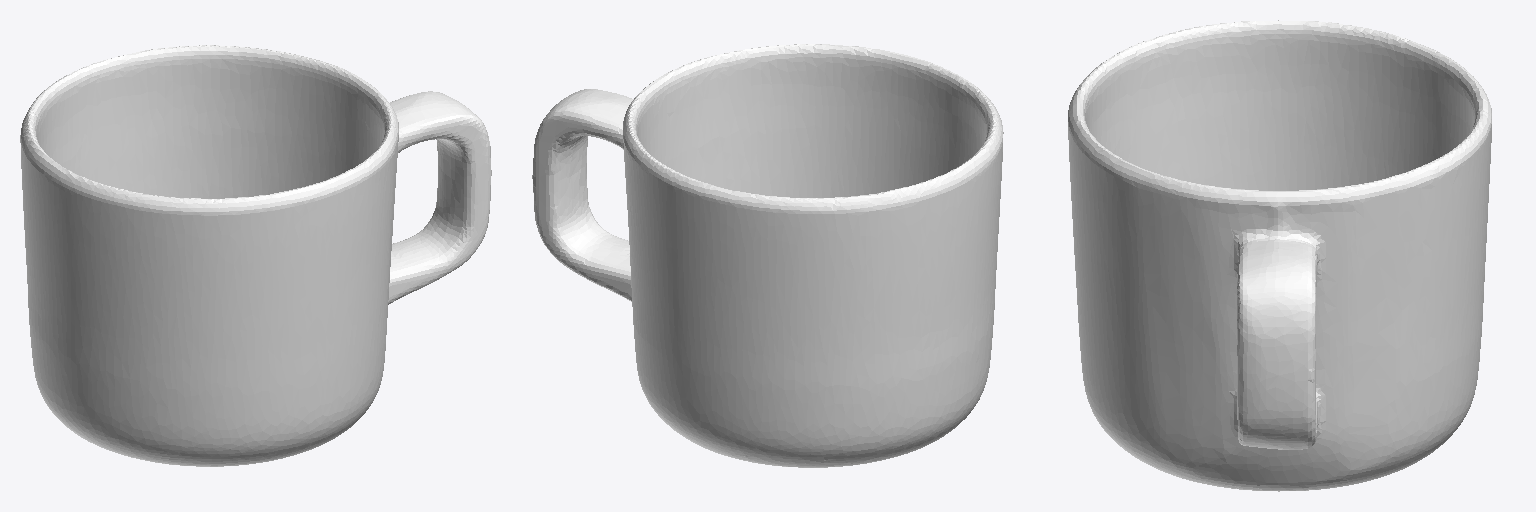
robot.urdf — model.urdf:
<?xml version="0.0" ?>
<robot name="model.urdf">
  <link name="baseLink">
    <contact>
      <friction_anchor/>
      <lateral_friction value="0.3"/>
      <rolling_friction value="0.0"/>
      <contact_cfm value="0.0"/>
      <contact_erp value="1.0"/>
    </contact>
    <inertial>
       <origin rpy="0 0 0" xyz="0 0 0"/>
       <mass value="0.1"/>
       <inertia ixx="8e-05" ixy="0" ixz="0" iyy="0.0002" iyz="0" izz="0.0002"/>
    </inertial>
    <visual>
      <geometry>
        <mesh filename="textured.obj" scale="1.15 1.15 1.15"/>
      </geometry>
      <material name="white">
        <color rgba="1. 1. 1. 1."/>
      </material>
    </visual>
    <collision>
      <geometry>
    	 	<mesh filename="collision.obj" scale="1 1 1"/>
      </geometry>
    </collision>
  </link>
</robot>

--- Render facts (derived) ---
3 views of the same robot in one strip: view 1: azimuth 30°, elevation 25°; view 2: azimuth 150°, elevation 25°; view 3: azimuth 270°, elevation 25° (orthographic).
Robot: model.urdf — 1 links, 0 joints (none); root link baseLink; default pose: all joints at 0.
Visible links, largest first — view 1: baseLink; view 2: baseLink; view 3: baseLink.
Link boxes in pixels (left/top/right/bottom): baseLink: left=20, top=45, right=491, bottom=466; baseLink: left=532, top=44, right=1003, bottom=467; baseLink: left=1068, top=20, right=1491, bottom=491.
Bounding box of the posed robot: 0.1208 × 0.0915 × 0.0761 m (x, y, z).
Meshes: 1 distinct files referenced, 1 mesh visuals loaded (1 OBJ).